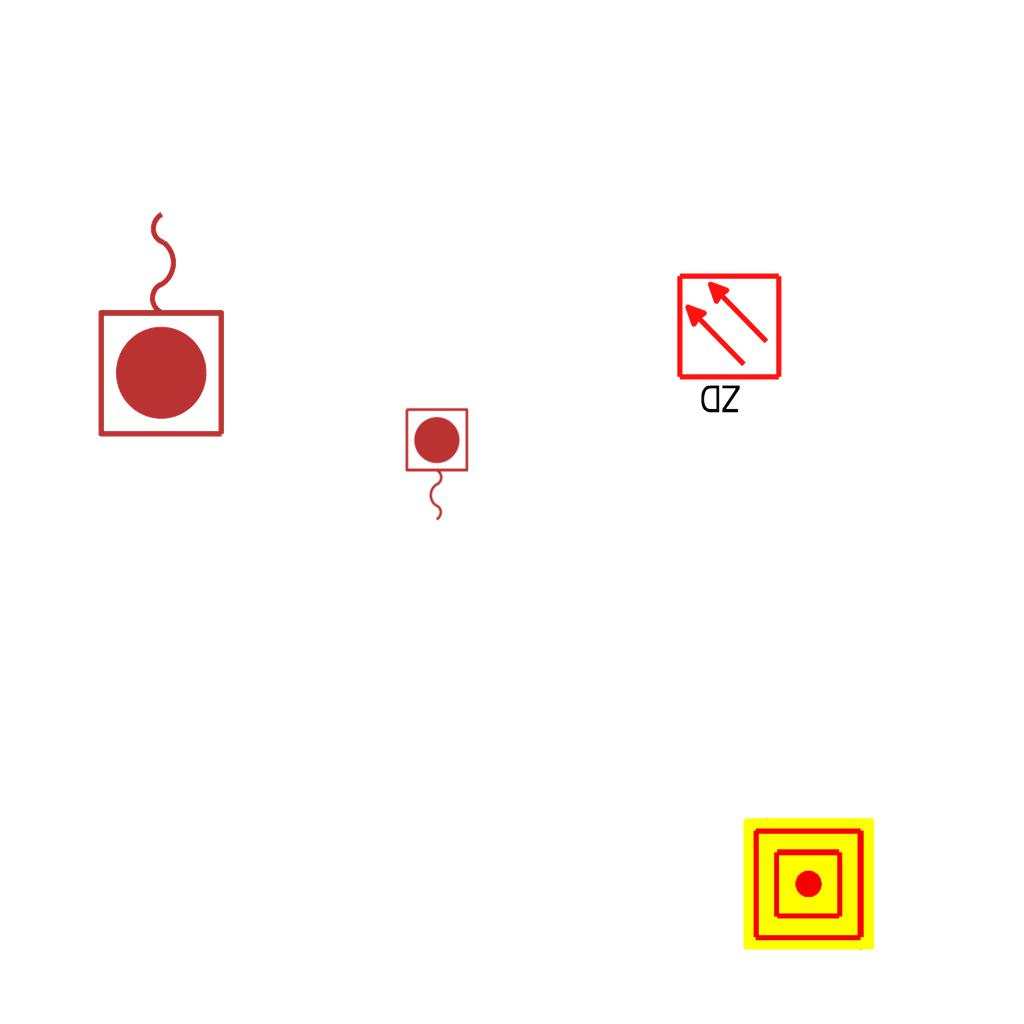NAM-Nichtautomatischer_Melder: (743, 818, 875, 950)
ZD_Melder_in_Zwischendecke_mit_Revisionsoeffnung_mind_40_x_40_cm: (674, 271, 788, 420)
Zugtaster: (91, 201, 235, 445), (400, 404, 472, 526)
